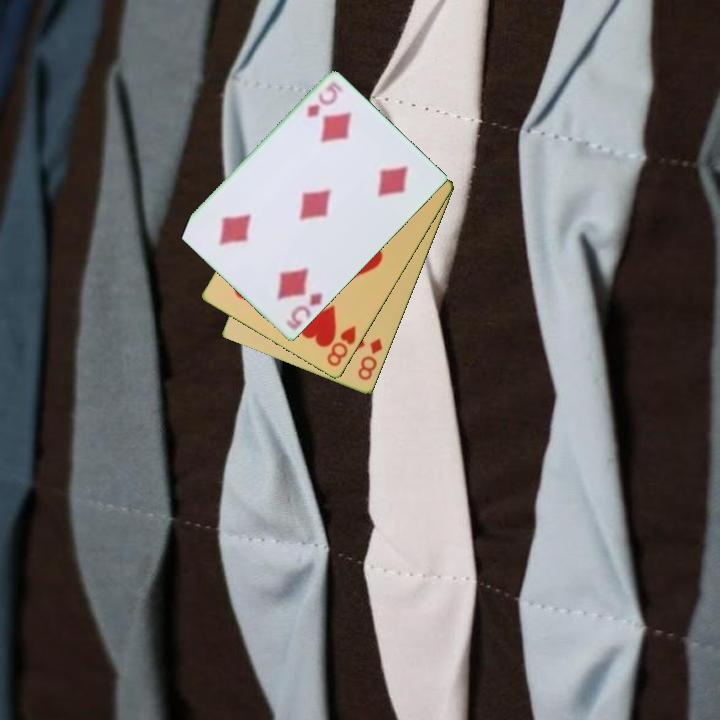5d: (281, 289, 326, 333), (303, 87, 337, 121)
8d: (354, 335, 386, 384)
8h: (323, 322, 359, 370)
